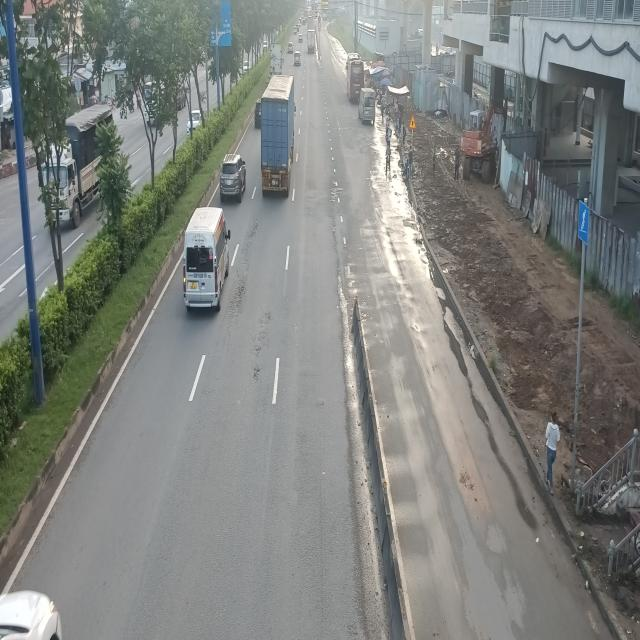car: (218, 155, 246, 203)
coach: (345, 51, 364, 103)
container: (261, 76, 297, 199)
van: (183, 209, 231, 316), (359, 88, 376, 124)
